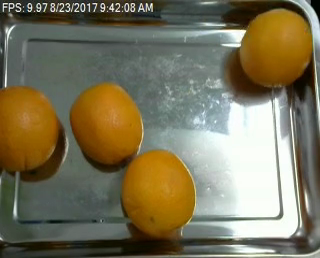Orange: (121, 150, 197, 235), (69, 82, 144, 165), (239, 8, 313, 87), (1, 86, 57, 172)
